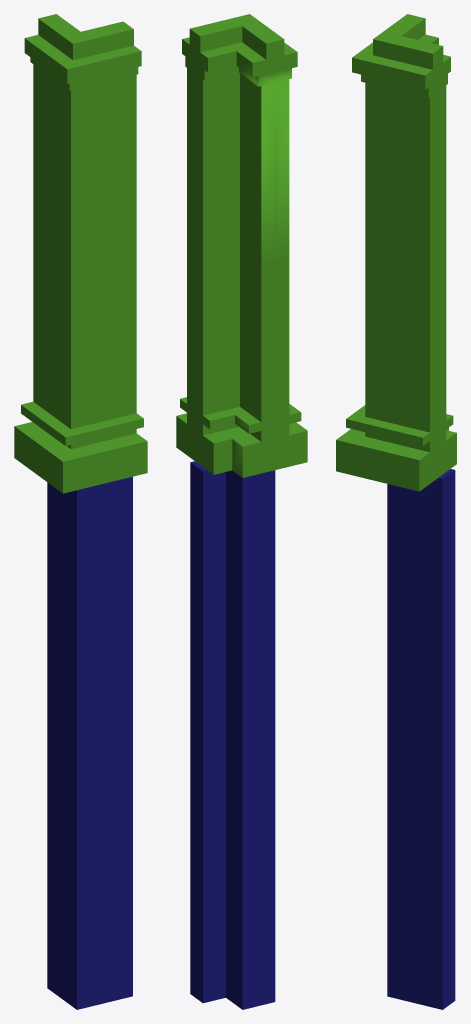
The model's file is SM_fence_mur_coin.fbx.
The picture shows the model from 3 angles, left to right: view 1: azimuth 30°, elevation 25°; view 2: azimuth 210°, elevation 25°; view 3: azimuth 330°, elevation 25°; orthographic projection.
Parts seen in each view (by area): view 1: Box013, Plane011; view 2: Box013, Plane011; view 3: Box013, Plane011.
Part boxes in pixels (left/top/right/bottom): Box013: left=14, top=14, right=147, bottom=493; Plane011: left=47, top=476, right=132, bottom=1009; Box013: left=176, top=14, right=307, bottom=477; Plane011: left=190, top=461, right=275, bottom=1009; Box013: left=336, top=14, right=456, bottom=491; Plane011: left=387, top=469, right=455, bottom=1009.
Bounding box in the file's own units: 101 × 1058 × 95.88.
